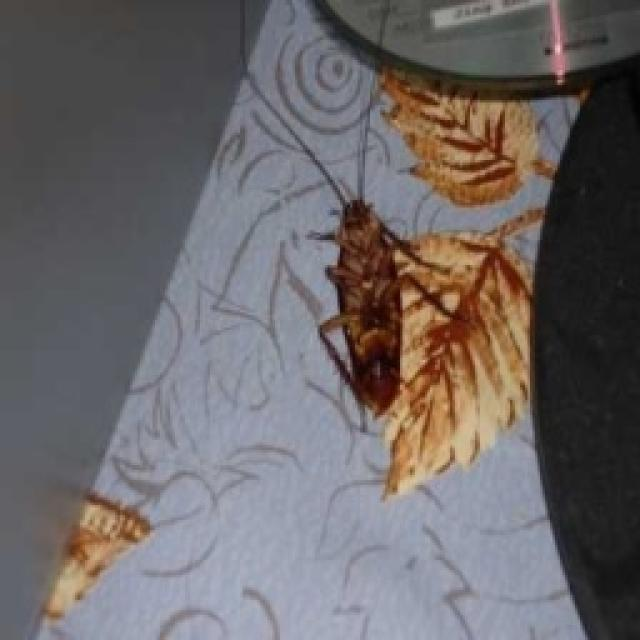cockroach: (319, 164, 416, 416)
